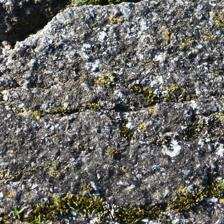Crack: (4, 5, 142, 59)
